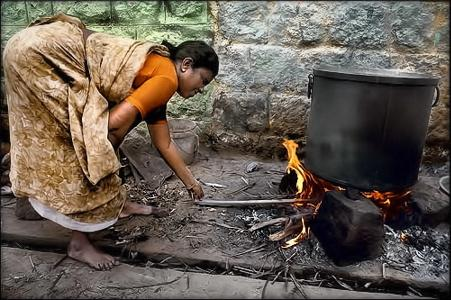person: (5, 14, 221, 272)
